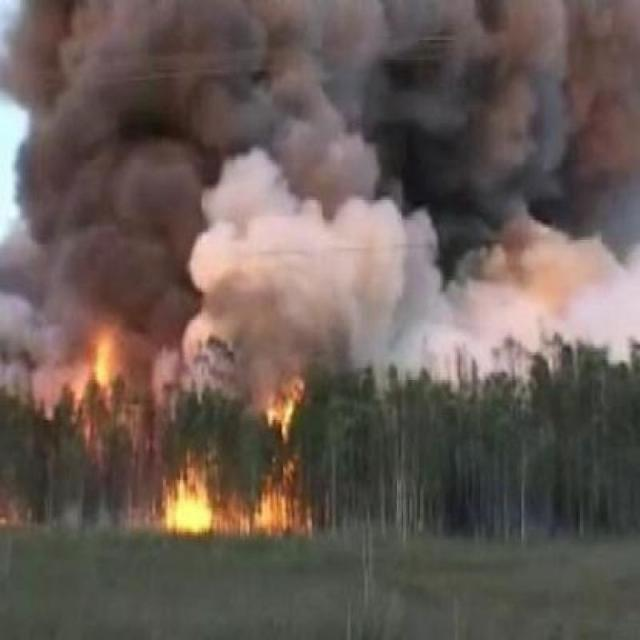Fire: (84, 376, 334, 538)
Smoke: (69, 12, 640, 389)
